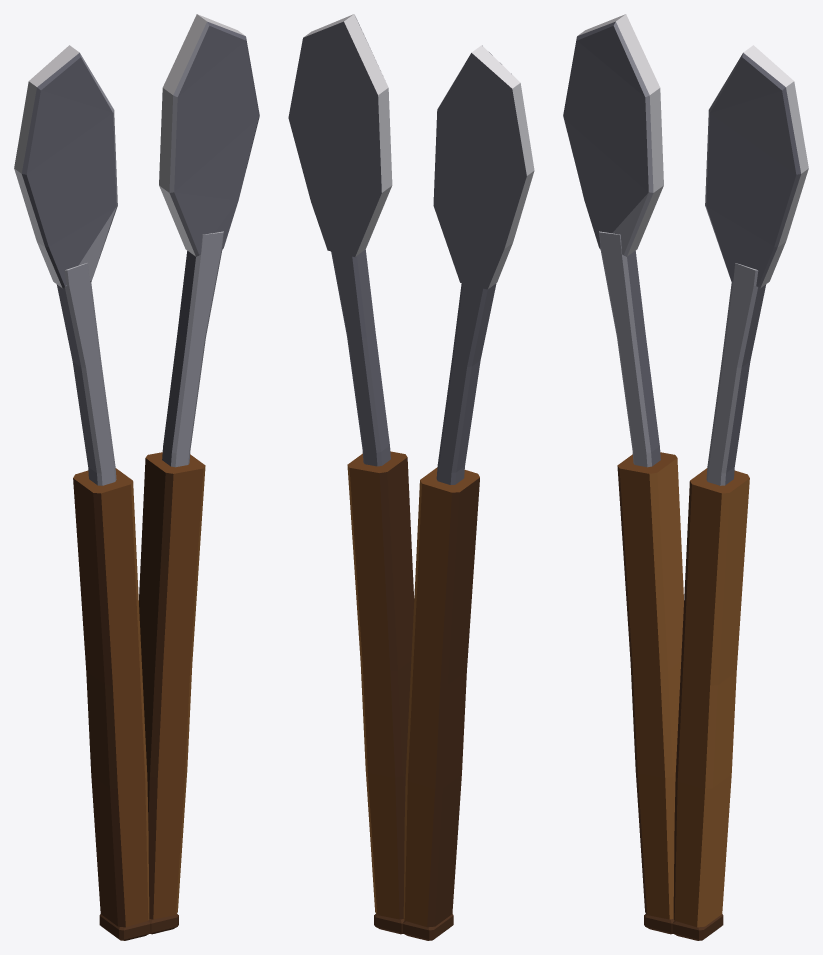
The model's file is GrillDad_Tongs.fbx.
3 renders of one model, left to right at view 1: azimuth 30°, elevation 25°; view 2: azimuth 150°, elevation 25°; view 3: azimuth 330°, elevation 25°, orthographic.
Visible parts, largest first — view 1: GrillTongs_Geo.001; view 2: GrillTongs_Geo.001; view 3: GrillTongs_Geo.001.
Boxes of the visible parts, box(x1,y1,x2,y2) form: GrillTongs_Geo.001: box(14, 14, 259, 940); GrillTongs_Geo.001: box(288, 14, 534, 940); GrillTongs_Geo.001: box(563, 14, 808, 940).
Bounding box in the file's own units: 0.9534 × 3.42 × 0.18.
Materials: 1 (1 with a texture image).
